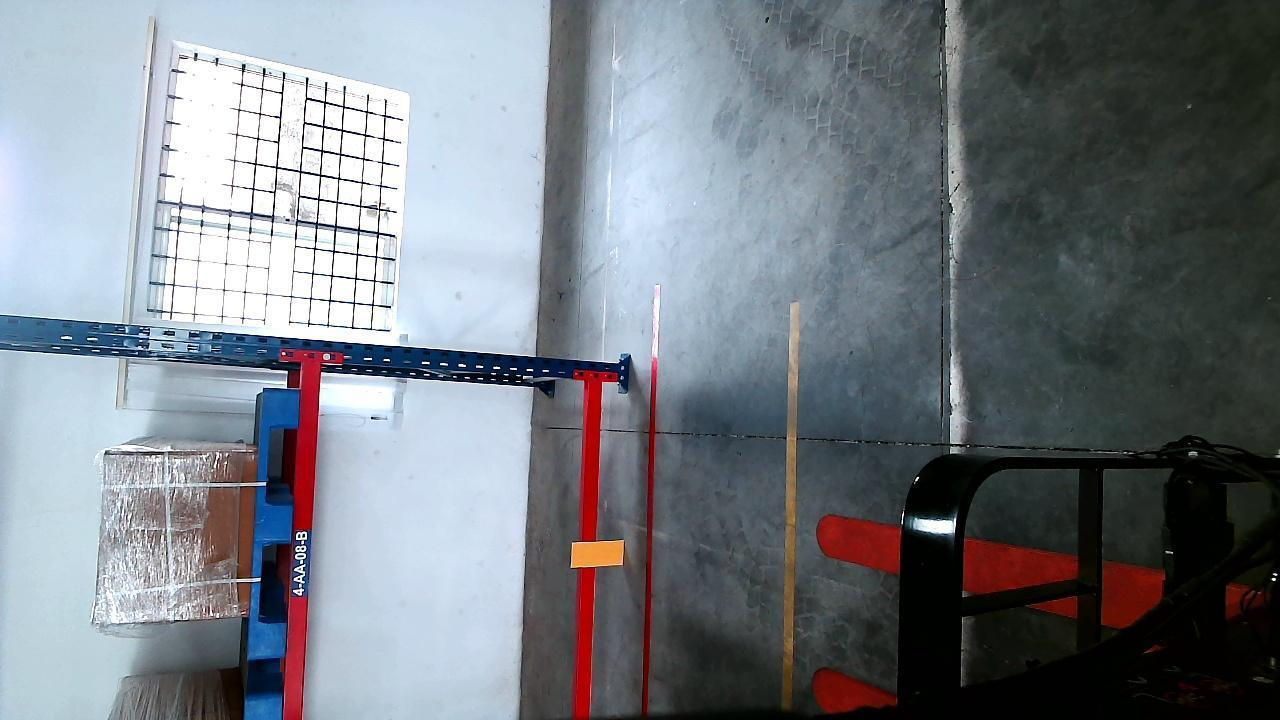h_rack: (288, 361, 324, 711), (575, 384, 601, 720)
orange_strip: (574, 540, 623, 568)
red_line: (644, 360, 662, 720)
small_pallet: (251, 392, 299, 667)
yellow_line: (779, 304, 801, 706)
